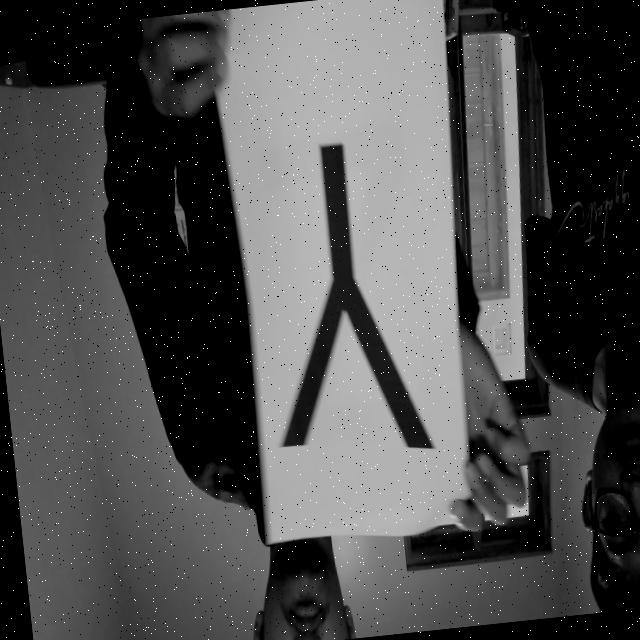y: (239, 112, 446, 482)
